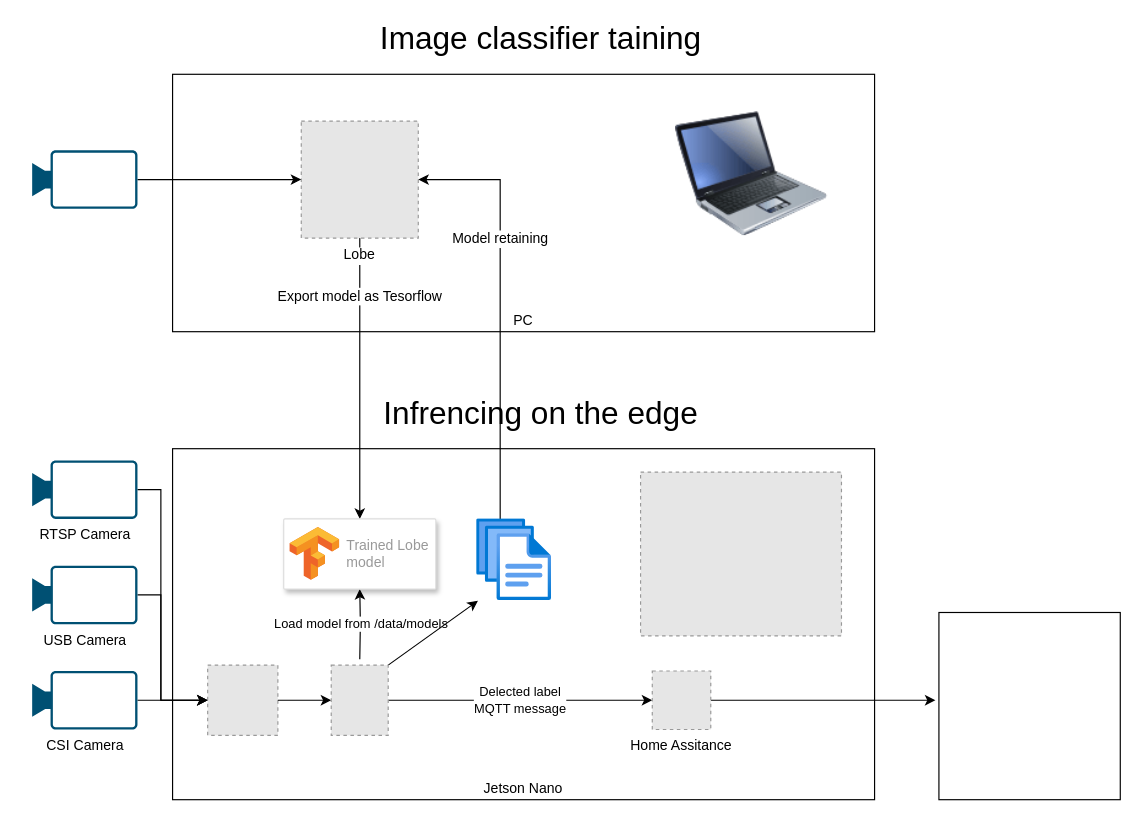
This 1141x820 diagram has some shape labels left out. Grey dashed boxes stand in for pictures. Here are the shapes that lost their labels. From the top down, the centre of each, then its label:
the point at 84,179: USB/Laptop Camera
the point at 513,559: output photos for retraing
the point at 1029,705: Smart Home Devices
